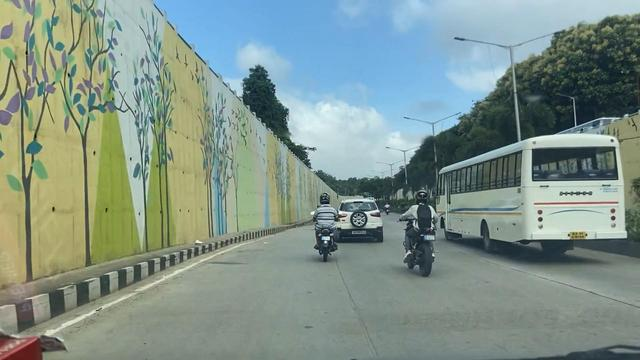HMV: (442, 137, 623, 251)
LMV: (405, 194, 437, 271), (338, 197, 386, 243), (313, 198, 339, 252)
